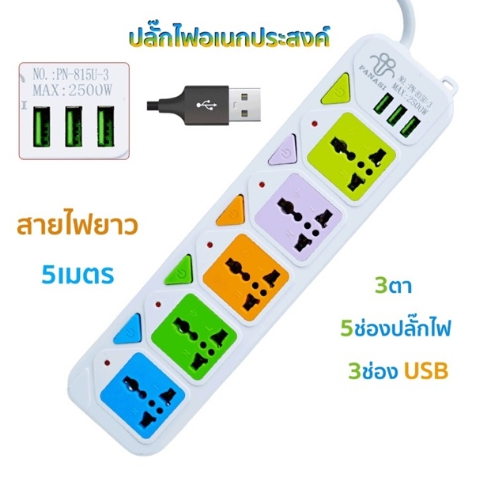Three_eye_plug: (59, 26, 460, 460)
